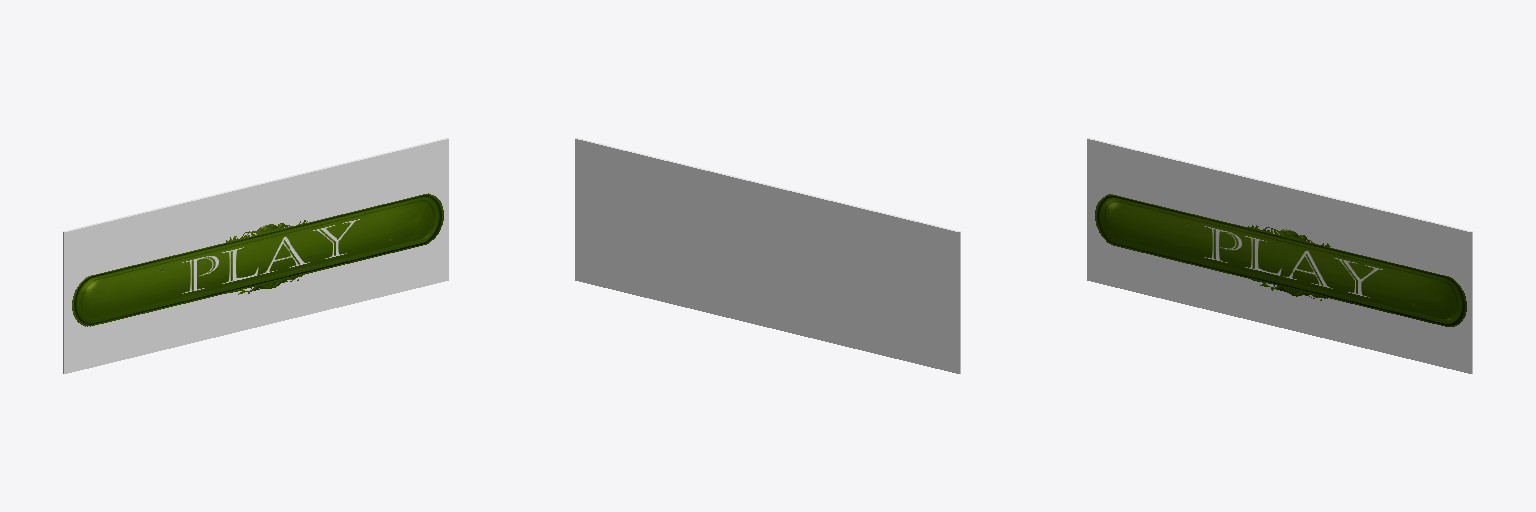
The picture shows the model from 3 angles: view 1: azimuth 30°, elevation 25°; view 2: azimuth 150°, elevation 25°; view 3: azimuth 330°, elevation 25°; orthographic projection.
Parts seen in each view (by area): view 1: pCube1; view 2: pCube1; view 3: pCube1.
Boxes of the visible parts, <box> form: pCube1: <box>63,138,448,373</box>; pCube1: <box>575,138,960,373</box>; pCube1: <box>1087,138,1472,373</box>.
Size of the model in its own units: 1.53 by 0.5405 by 0.0099.
4 materials, 1 textured.